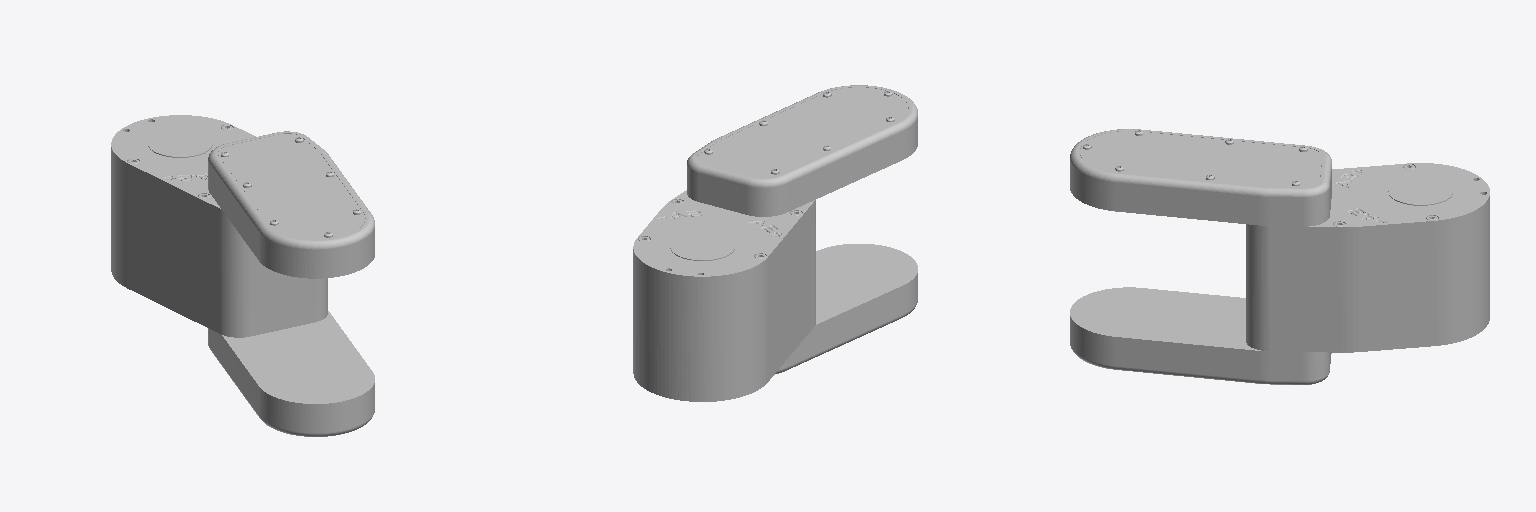
The picture shows the model from 3 angles: view 1: azimuth 30°, elevation 25°; view 2: azimuth 150°, elevation 25°; view 3: azimuth 270°, elevation 25°; orthographic projection.
Parts seen in each view (by area): view 1: Axis3; view 2: Axis3; view 3: Axis3.
Part boxes in pixels (x1,y1,x2,y2): Axis3: (111,115,374,436); Axis3: (633,85,917,401); Axis3: (1070,129,1489,384).
Size of the model in its own units: 7.16 by 10.14 by 19.44.